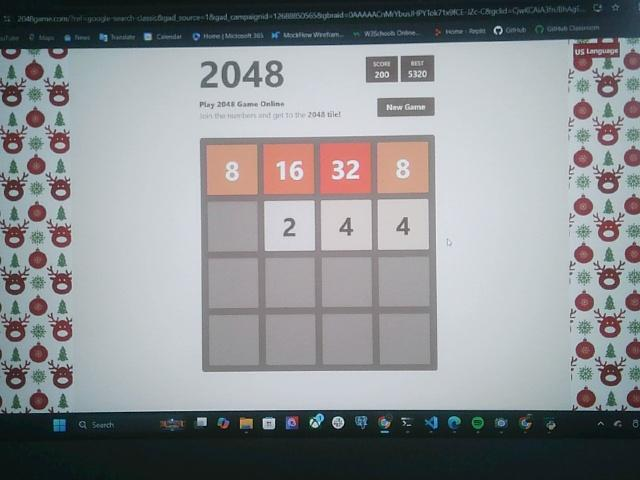board: (201, 137, 436, 370)
tile: (320, 143, 373, 195), (377, 142, 429, 193), (378, 198, 429, 250), (321, 200, 372, 251), (206, 145, 258, 195), (265, 144, 315, 194), (265, 202, 314, 251)
